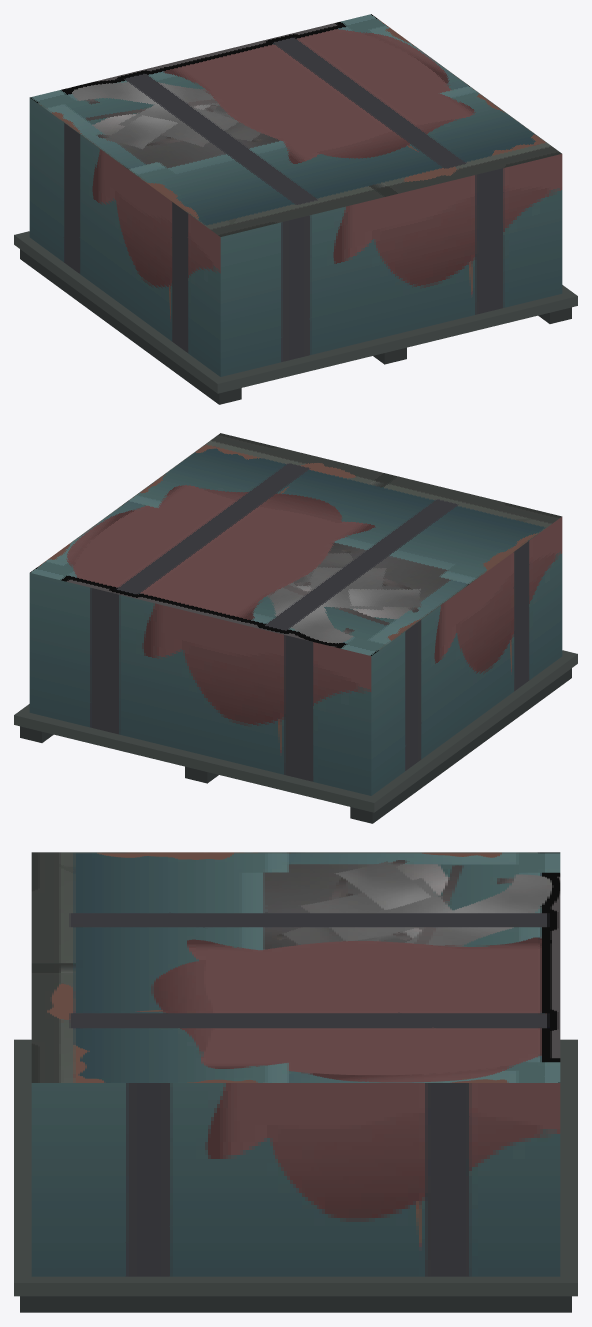
The model's file is Building_AncientPallet_SteelSlag.glb.
The picture shows the model from 3 angles, top to bottom: view 1: azimuth 30°, elevation 25°; view 2: azimuth 150°, elevation 25°; view 3: azimuth 270°, elevation 25°; orthographic projection. The views are drawn at different scales.
Parts seen in each view (by area): view 1: AncientPallet_SteelSlag; view 2: AncientPallet_SteelSlag; view 3: AncientPallet_SteelSlag.
Boxes of the visible parts, x1,y1,x2,y2 form: AncientPallet_SteelSlag: (14,14,577,404); AncientPallet_SteelSlag: (14,433,577,823); AncientPallet_SteelSlag: (14,852,577,1312).
Bounding box in the file's own units: 1.94 × 0.84 × 1.9.
Materials: 1 (1 with a texture image).
